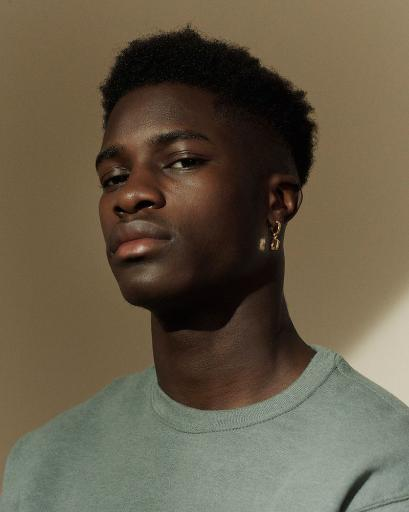left_eye: (164, 156, 208, 176)
left_lip_corner: (163, 230, 178, 248)
right_eye: (102, 173, 131, 190)
right_lip_corner: (106, 245, 120, 259)
